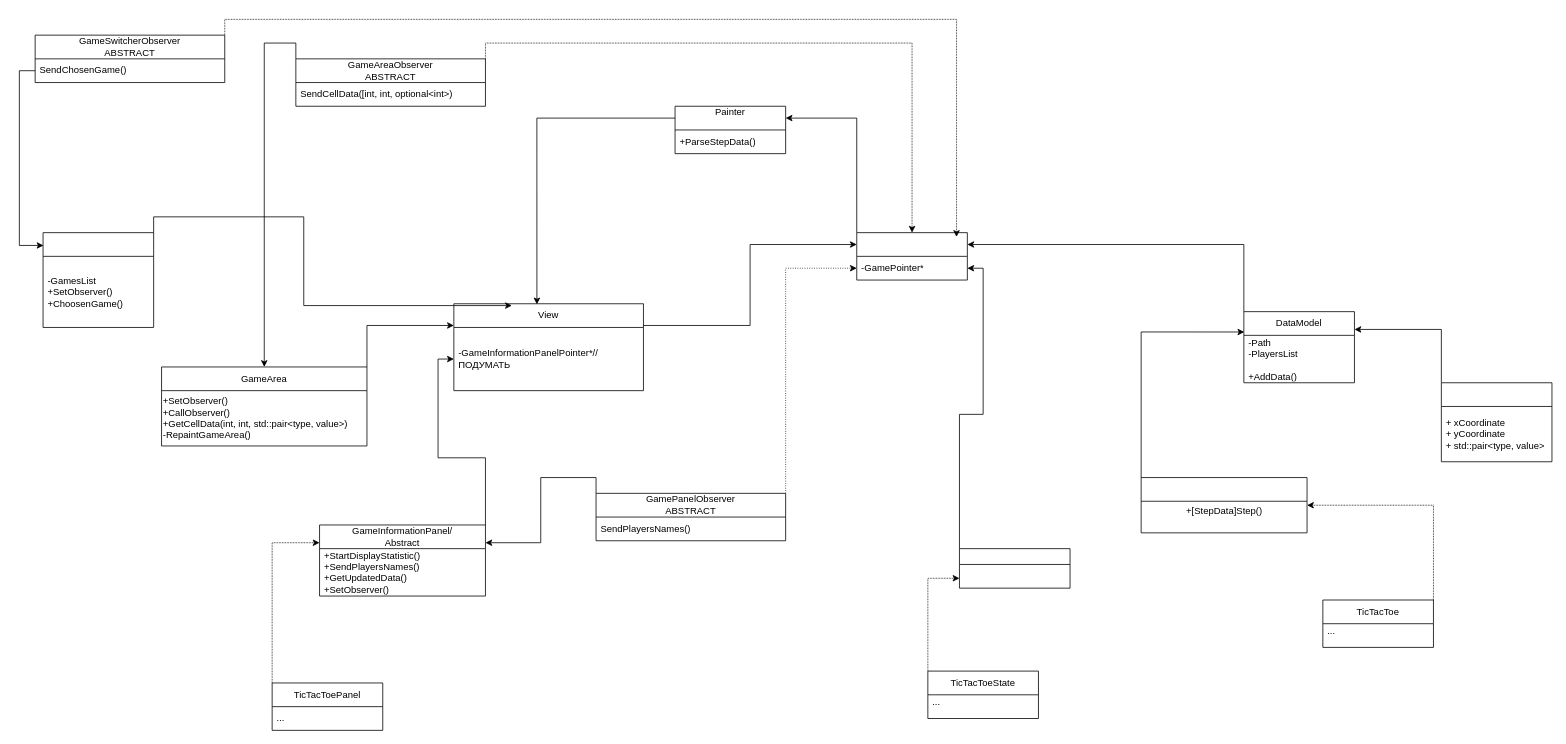
Image size: 1566x744. Some labels were removed from this diagram. The box of each missing label's shape, as (x1, y1, x2, y2) in pixels:
Controller: (856, 232, 967, 280)
CurrentGameState: (959, 548, 1070, 588)
Game/Abstract: (1140, 477, 1307, 533)
GameSwitcher: (42, 232, 154, 327)
StepData: (1441, 382, 1552, 462)
